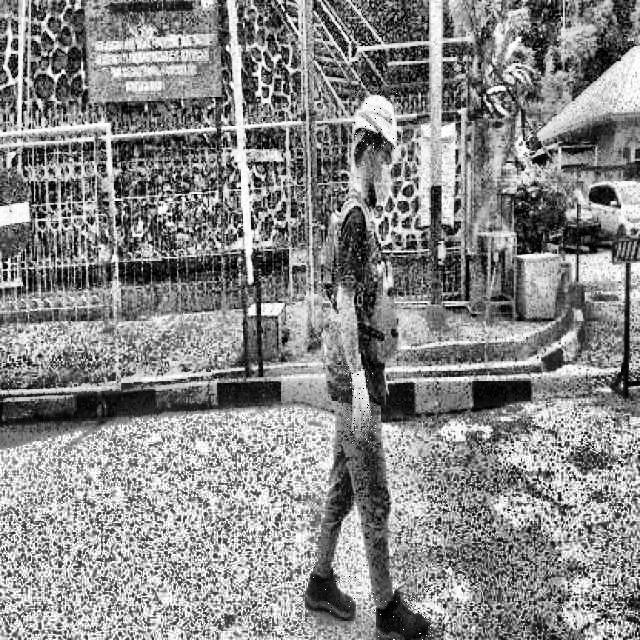safety_helmet: (353, 91, 399, 150)
safety_jacket: (323, 206, 405, 366)
